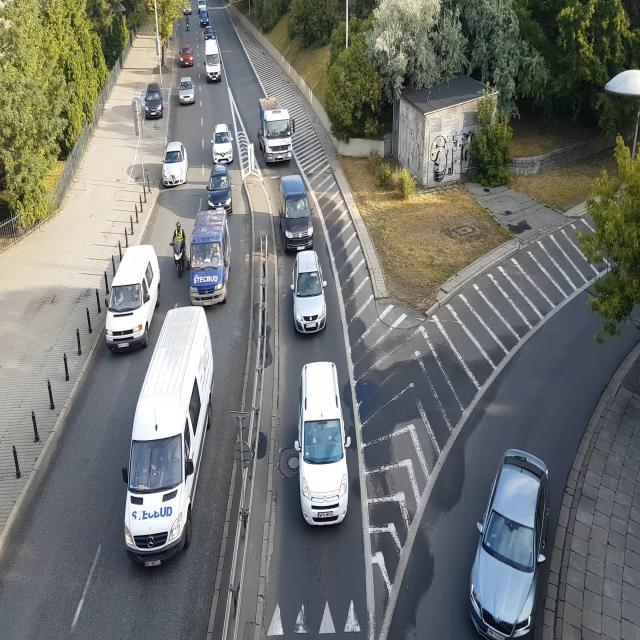car: (125, 302, 221, 614), (460, 428, 550, 640), (290, 357, 356, 540), (106, 250, 156, 353), (289, 252, 330, 338), (192, 209, 225, 309), (278, 174, 316, 247), (158, 138, 188, 198), (205, 158, 235, 215), (203, 36, 224, 89), (208, 122, 235, 163), (145, 80, 168, 124), (174, 71, 199, 108), (179, 40, 195, 67), (199, 10, 211, 27), (203, 27, 217, 40), (183, 3, 193, 15), (198, 2, 207, 11)
motorcycle: (167, 218, 189, 275), (184, 15, 192, 33)
truck: (256, 90, 297, 164)
